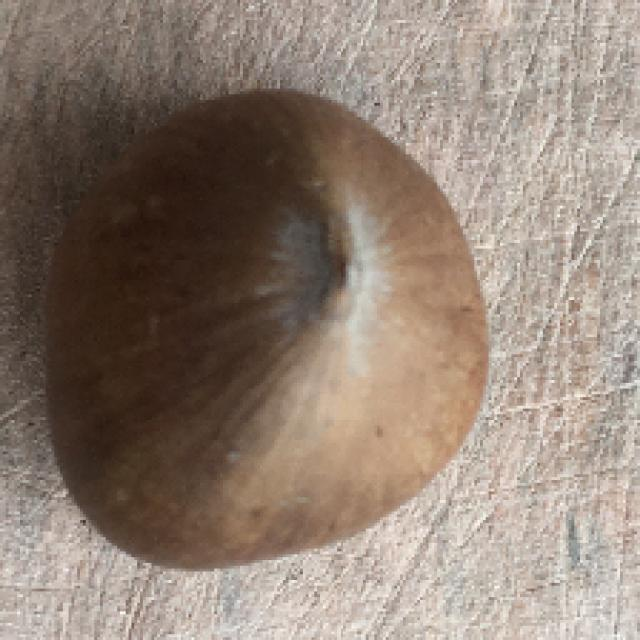damagedHazelnut: (50, 91, 489, 591)
